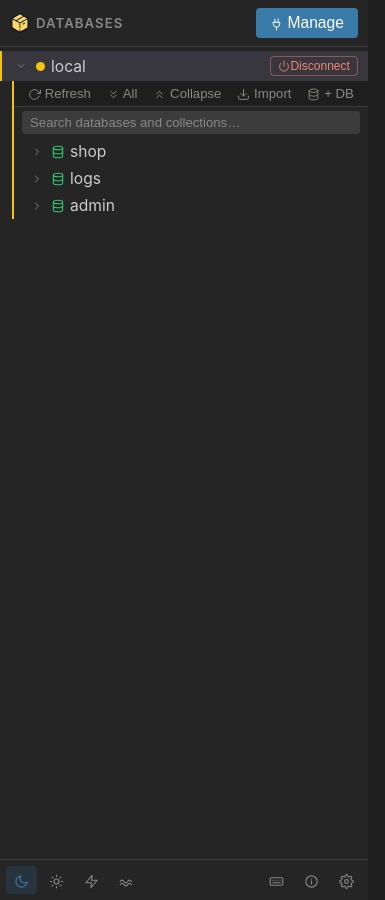
Scenario: Sidebar — collection search › opens a collapsed database that holds a matching collection, showing only the matches
The image size is (385, 900).
Check: the text "orders" is not shown
In the field with placeholder "Search databases and collections…": (191, 122) [22,111,360,134], type "ORD"
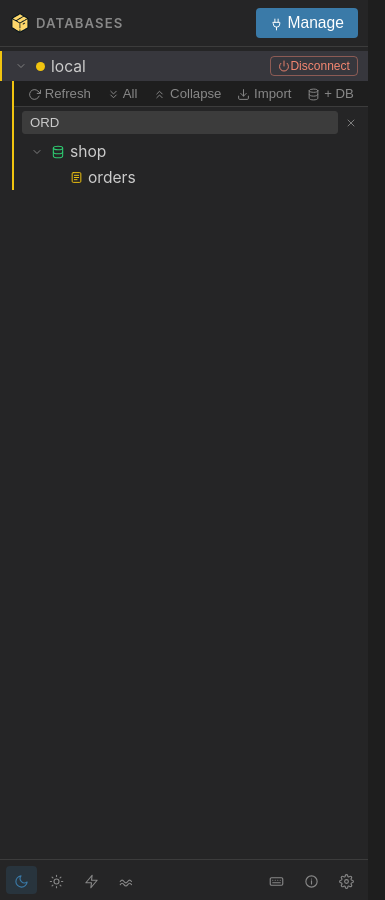
Check: the text "orders" is shown, box [88,168,136,187]
Check: the text "logs" is gone
Check: the text "admin" is gone
